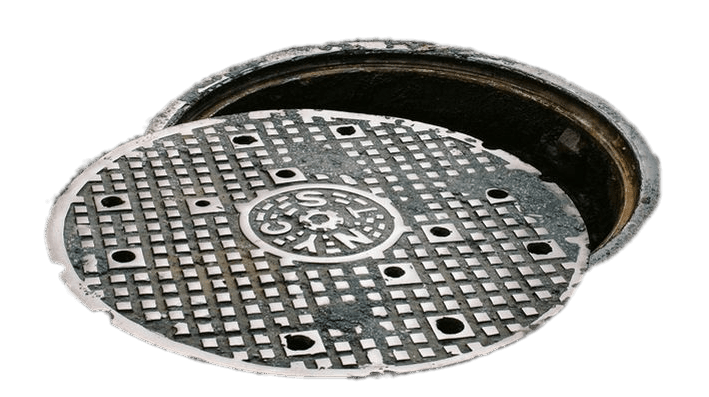Open_manhole: (30, 21, 677, 397)
